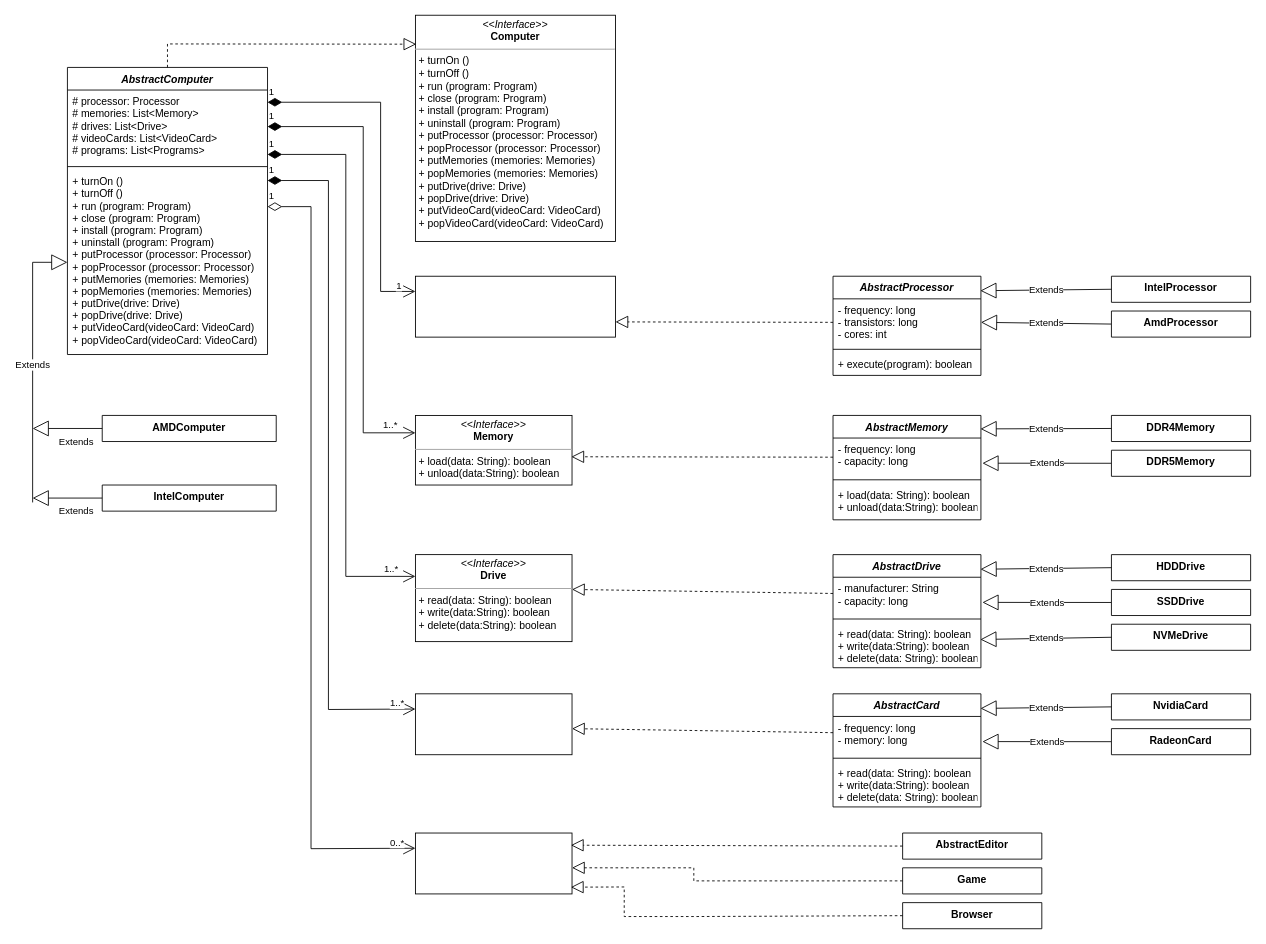
Some shapes in this 1266 by 944 pixel diagram are drawn without their labels. The centre of each missing label's shape, as x and y in pixels:
"<<Interface>> Proccesor + execute(program: Program): boolean" goes at (515,306).
"<<Interface>> Program + doAction(): boolean" goes at (493,863).
"<<Interface>> VideoCard + drawGraphic(): boolean" goes at (493,724).
